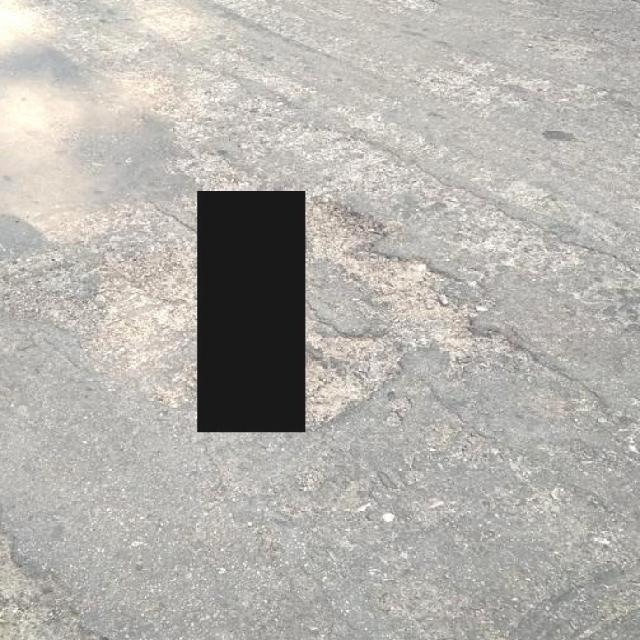road-pothole: (310, 192, 525, 427)
